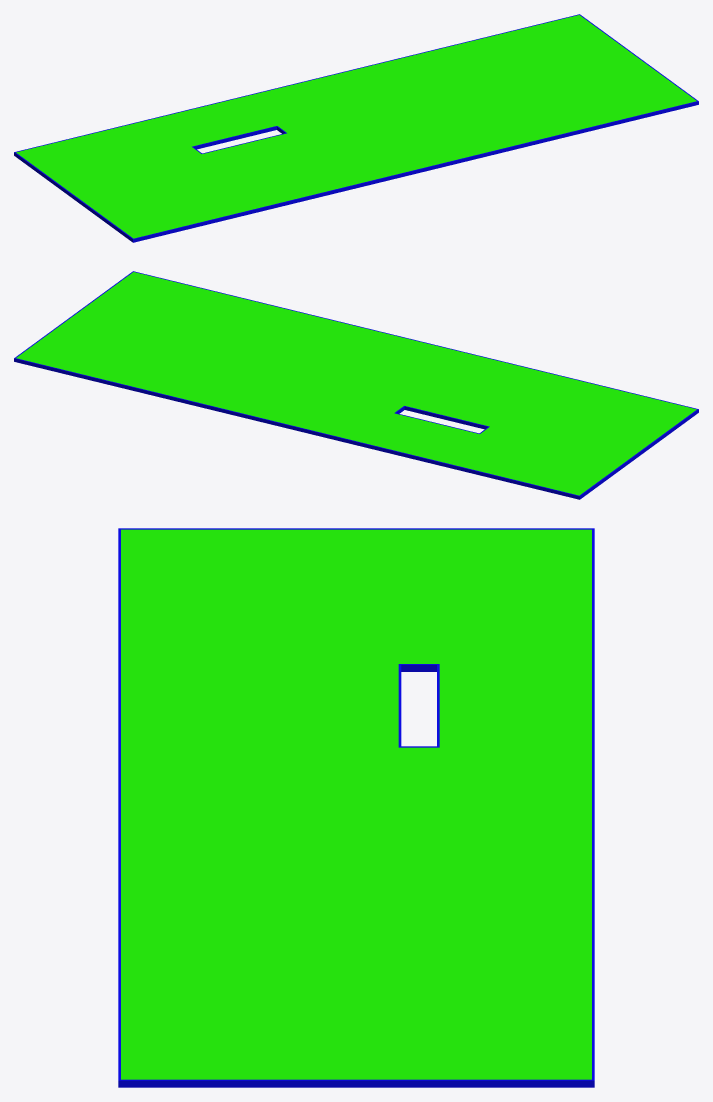
File: Roof01.fbx
3 renders of one model, top to bottom at view 1: azimuth 30°, elevation 25°; view 2: azimuth 150°, elevation 25°; view 3: azimuth 270°, elevation 25°, orthographic. The views are drawn at different scales.
Visible parts, largest first — view 1: Roof01; view 2: Roof01; view 3: Roof01.
Boxes of the visible parts, x1=… form: Roof01: x1=14, y1=14, x2=698, y2=242; Roof01: x1=14, y1=271, x2=698, y2=499; Roof01: x1=118, y1=528, x2=594, y2=1087.
Bounding box in the file's own units: 24735 × 143 × 9020.
